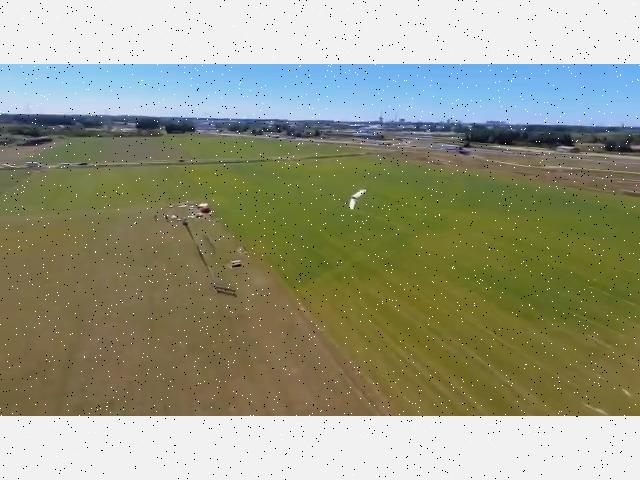Anti-Drone: (344, 183, 376, 213)
